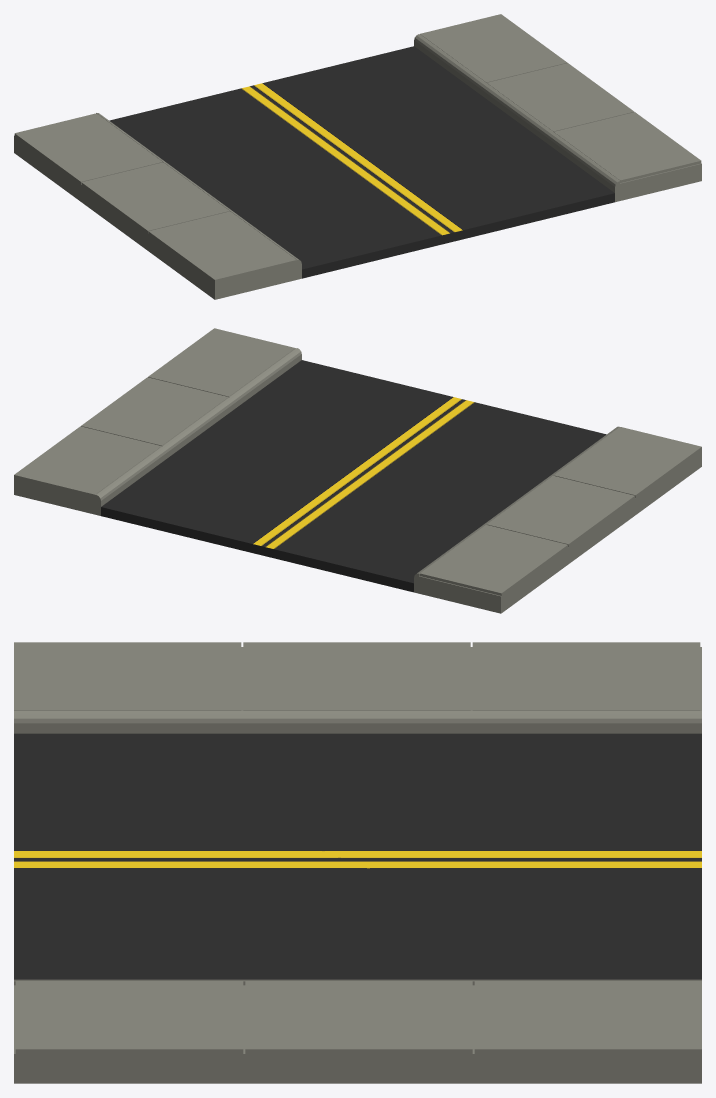
File: Road Straight.fbx
3 renders of one model, top to bottom at view 1: azimuth 30°, elevation 25°; view 2: azimuth 150°, elevation 25°; view 3: azimuth 270°, elevation 25°, orthographic. The views are drawn at different scales.
Parts seen in each view (by area): view 1: Road.001, Sidewalk.002; view 2: Road.001, Sidewalk.002; view 3: Road.001, Sidewalk.002.
Part boxes in pixels (x1=…): Road.001: x1=109, y1=46, x2=614, y2=278; Sidewalk.002: x1=14, y1=14, x2=701, y2=299; Road.001: x1=101, y1=360, x2=606, y2=592; Sidewalk.002: x1=14, y1=328, x2=701, y2=613; Road.001: x1=14, y1=733, x2=701, y2=979; Sidewalk.002: x1=14, y1=642, x2=701, y2=1083.
Bounding box in the file's own units: 2800 × 110 × 2000.
3 materials, 1 textured.
